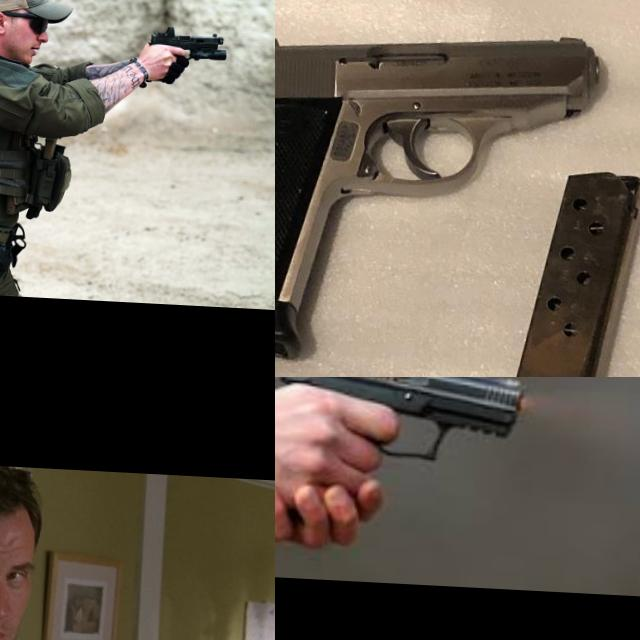handgun: (275, 12, 608, 377), (275, 377, 537, 466), (146, 24, 230, 64)
